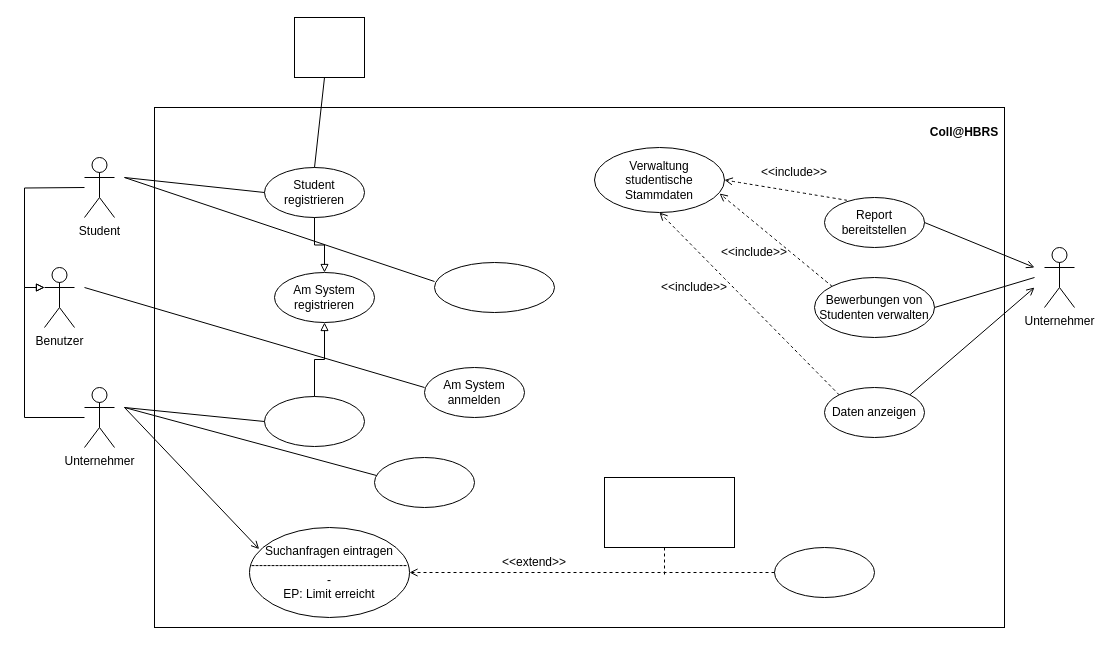
This 1112x645 diagram has some shape labels left out. The centre of each missing label's shape, as x and y in pixels:
"<<SIS>>" belongs at point 329,47.
"Condition: {11. Suchanfrage im Monat wird getätigt} EP: Limit erreicht" belongs at point 669,512.
"Fachkompetenzen managen" belongs at point 494,287.
"Stellenanzeigen aufgeben" belongs at point 424,482.
"Suchanfrage abbrechen" belongs at point 824,572.
"Unternehmer registrieren" belongs at point 314,421.
